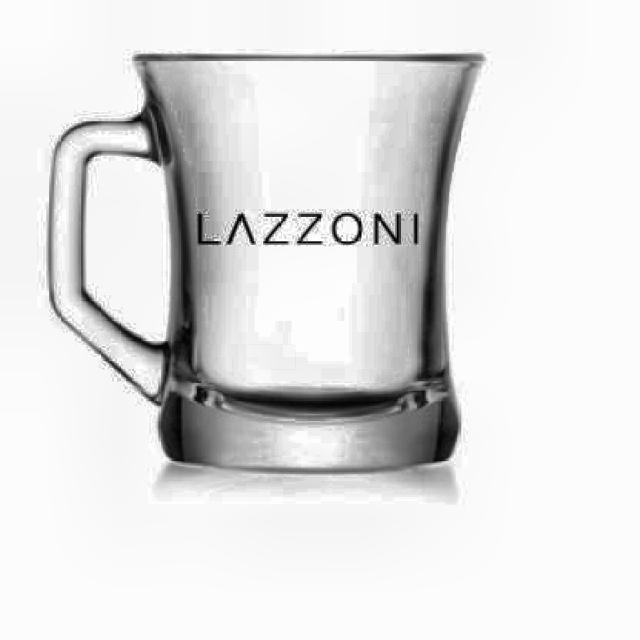Mug: (46, 51, 486, 475)
